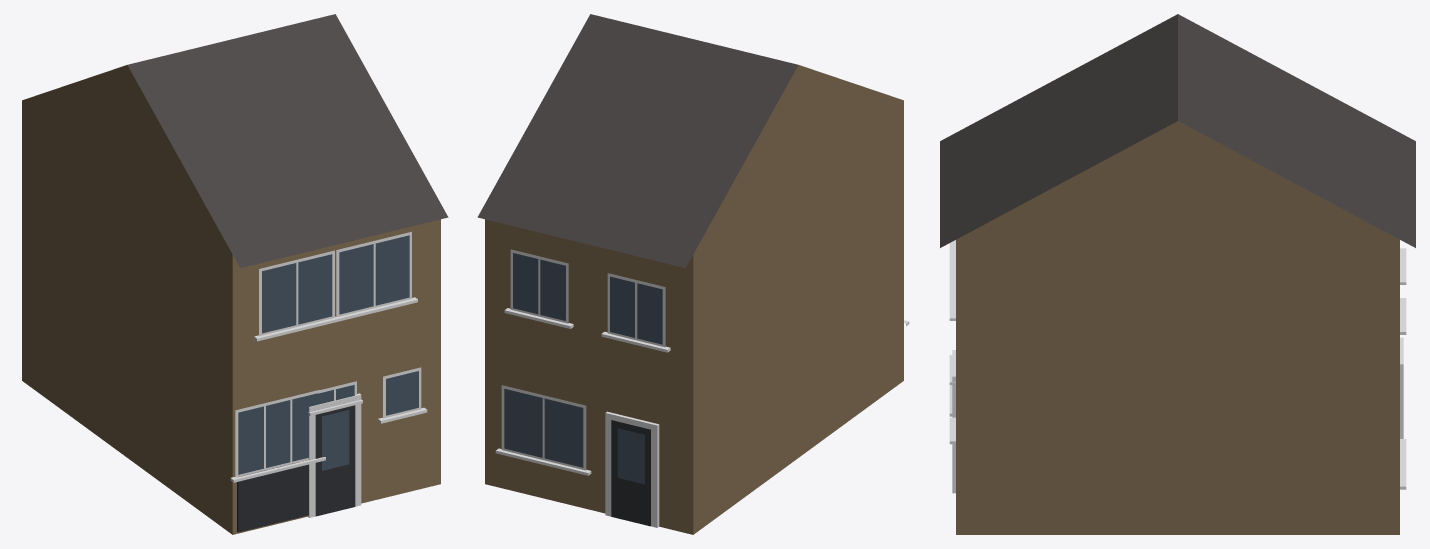
File: nw-rowhouse-red-panel-door__yellow-dark__2__gable__long__solid.glb
3 renders of one model, left to right at view 1: azimuth 30°, elevation 25°; view 2: azimuth 150°, elevation 25°; view 3: azimuth 270°, elevation 25°, orthographic. The views are drawn at different scales.
Visible parts, largest first — view 1: nw-rowhouse-red-panel-door__yellow-dark__2__gable__long__sol; view 2: nw-rowhouse-red-panel-door__yellow-dark__2__gable__long__sol; view 3: nw-rowhouse-red-panel-door__yellow-dark__2__gable__long__sol.
Boxes of the visible parts, bbox=[...] form: nw-rowhouse-red-panel-door__yellow-dark__2__gable__long__sol: bbox=[22, 14, 448, 534]; nw-rowhouse-red-panel-door__yellow-dark__2__gable__long__sol: bbox=[477, 14, 909, 534]; nw-rowhouse-red-panel-door__yellow-dark__2__gable__long__sol: bbox=[940, 14, 1415, 534].
Size of the model in its own units: 4.78 by 8.53 by 8.88.
